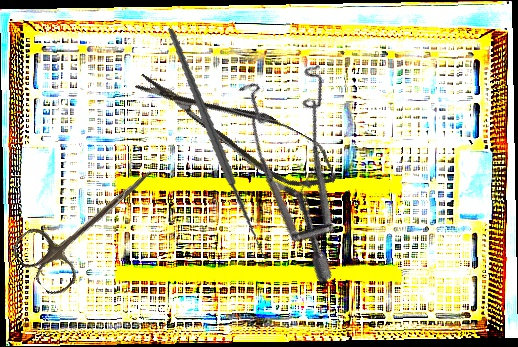Hook Surgical: (135, 27, 311, 261)
Iris Scissors: (7, 143, 172, 301)
Micro Scissor: (129, 51, 347, 205)
Speculum: (190, 39, 430, 286)
